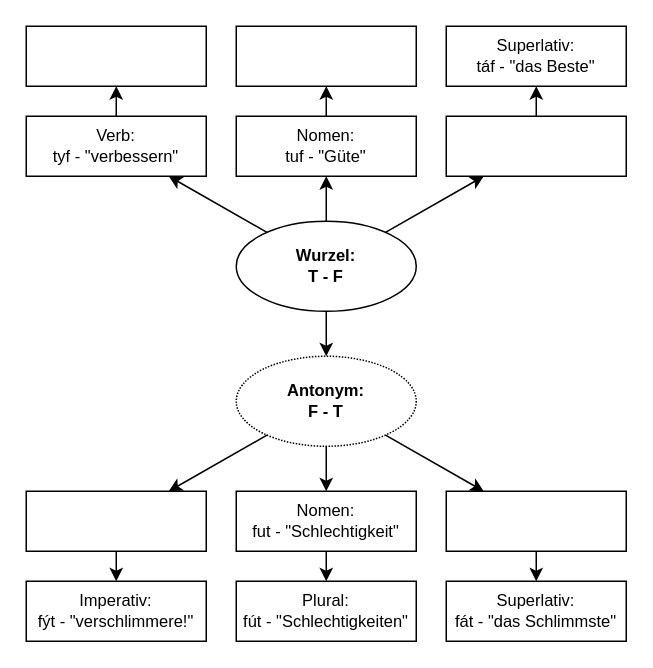
The diagram is 653 pixels wide and 668 high, and some of its shapes have lost their labels. The centre of each missing label's shape, as x and y in pixels:
Adjektiv: fat - "schlecht": the point at 535,520
Adjektiv: taf - "gut": the point at 535,145
Imperativ: týf - "verbessere!": the point at 115,55
Plural: túf - "gute Dinge": the point at 325,55
Verb: fyt - "verschlimmern": the point at 115,520
